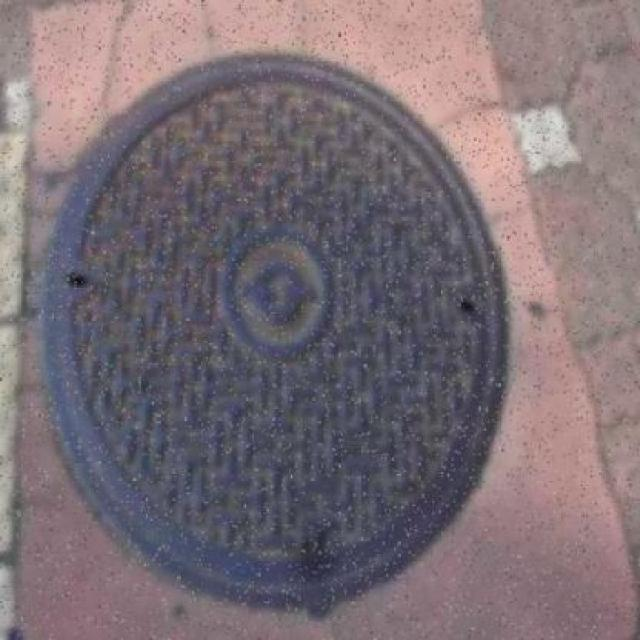Manhole: (40, 56, 520, 612)
